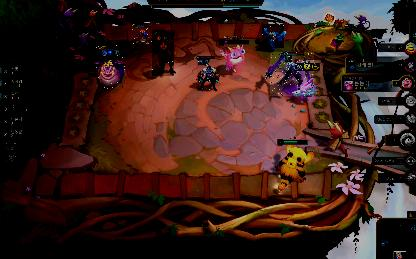1_nunu: (262, 24, 284, 48)
2_syfen: (270, 52, 314, 96)
2_sylas: (196, 56, 220, 92)
3_heimerdinger: (132, 22, 152, 48)
3_nomsy: (96, 45, 126, 89)
3_zippy: (152, 30, 174, 76)
